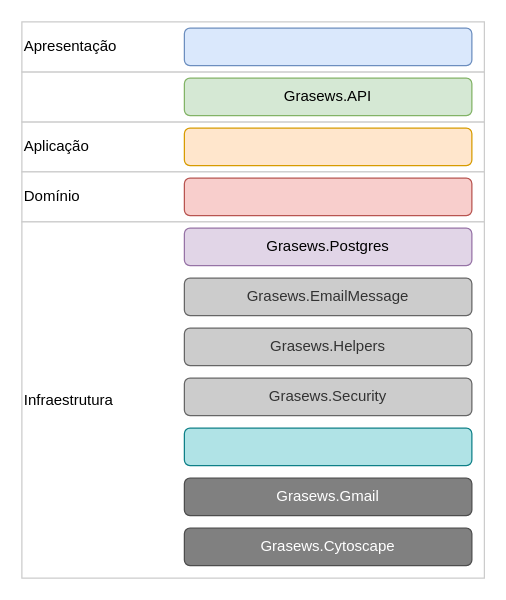
Some shapes in this 506 by 600 pixel diagram are drawn without their labels. Here are the shapes that lost their labels. From the top down, the box of each, then its label:
(183, 27, 472, 66): Grasews.Web
(21, 71, 484, 122): Serviços Distribuídos
(183, 127, 472, 166): Grasews.Application
(183, 177, 472, 216): Grasews.Domain
(183, 427, 472, 466): Grasews.IoC
